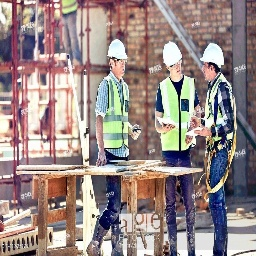helmet: (162, 40, 182, 68), (201, 44, 226, 66), (108, 40, 129, 63)
person: (92, 37, 145, 256), (154, 37, 205, 256), (197, 38, 240, 256)
vest: (159, 77, 197, 155), (101, 75, 130, 154), (206, 75, 226, 137)
